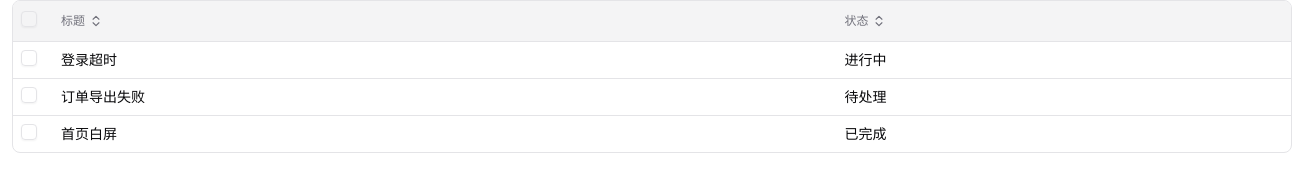
Scenario: DataTable › shiftSelectsRangeWithoutOpeningRow
Click the checkbox named "选择第 1 行" at coordinates (29, 58), box [21,50,37,66]
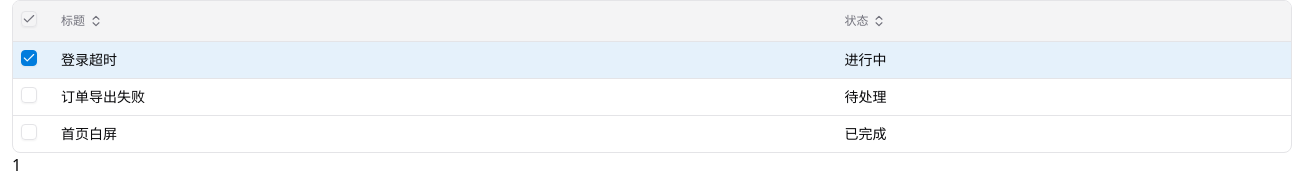
Click the checkbox named "选择第 3 行" at coordinates (29, 132), box [21,124,37,140]
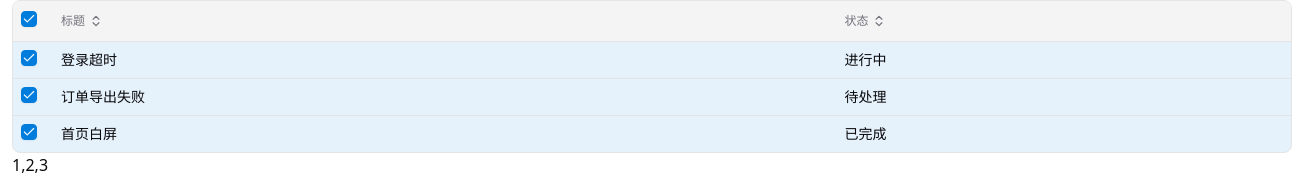
Check: the text with test id "selected" reads "1,2,3", box [12,154,48,176]
